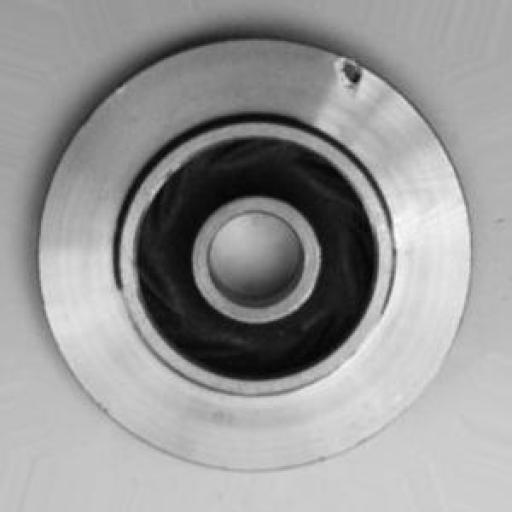defect: (320, 38, 398, 116)
